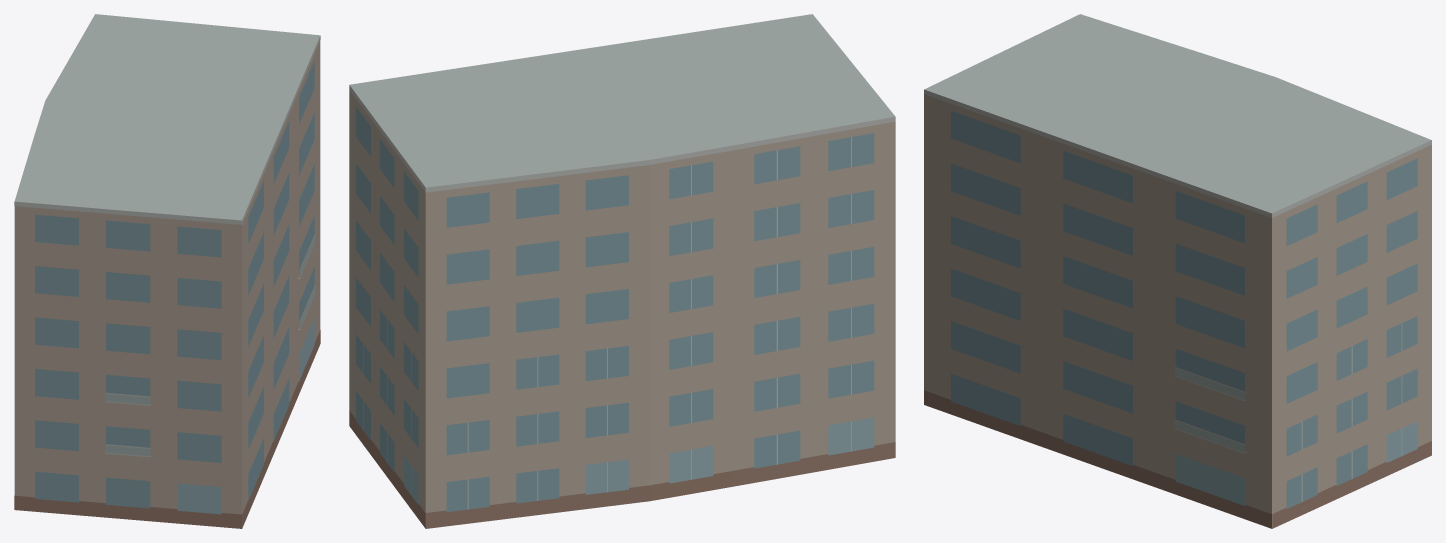
Rendered from survey-upis-32885054.glb.
3 views of the same model, side by side, from view 1: azimuth 30°, elevation 25°; view 2: azimuth 150°, elevation 25°; view 3: azimuth 270°, elevation 25° (orthographic). The views are drawn at different scales.
Parts seen in each view (by area): view 1: survey-upis-32885054.tmp; view 2: survey-upis-32885054.tmp; view 3: survey-upis-32885054.tmp.
Part boxes in pixels (left/top/right/bottom): survey-upis-32885054.tmp: left=14, top=14, right=320, bottom=528; survey-upis-32885054.tmp: left=349, top=14, right=895, bottom=528; survey-upis-32885054.tmp: left=924, top=14, right=1431, bottom=528.
Bounding box in the file's own units: 22.87 × 16.85 × 24.6.
